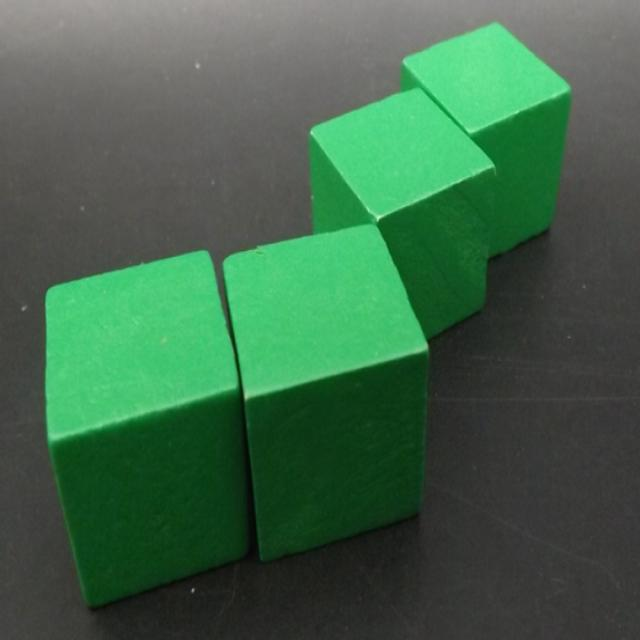green cube: (47, 248, 254, 605), (222, 223, 429, 560), (311, 86, 498, 341), (400, 17, 575, 258)
